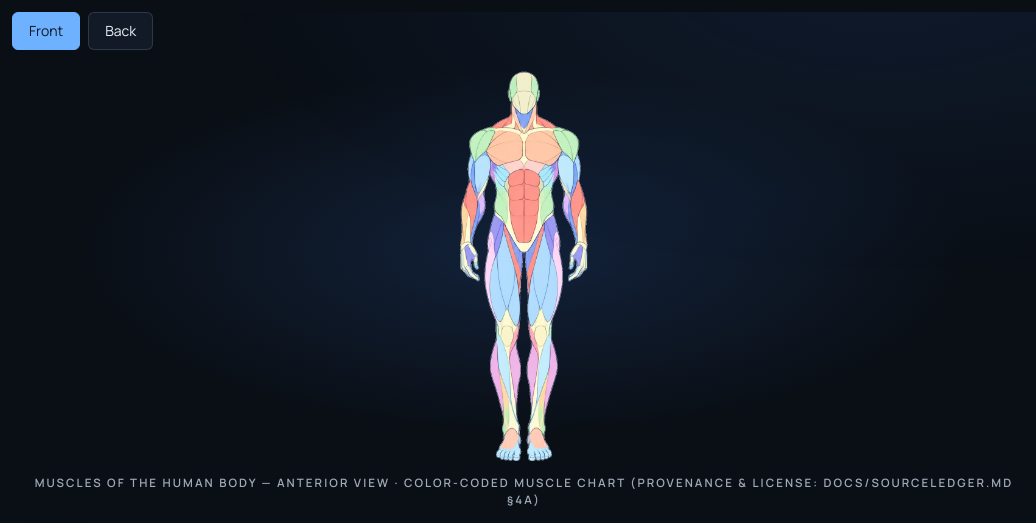
Test case: body map switcher - switching, AT, focus › switches front<->back and exposes state via aria-pressed
The width and height of the screenshot is (1036, 523).
Click the button "Back".
click(121, 31)  # box [88,12,153,50]
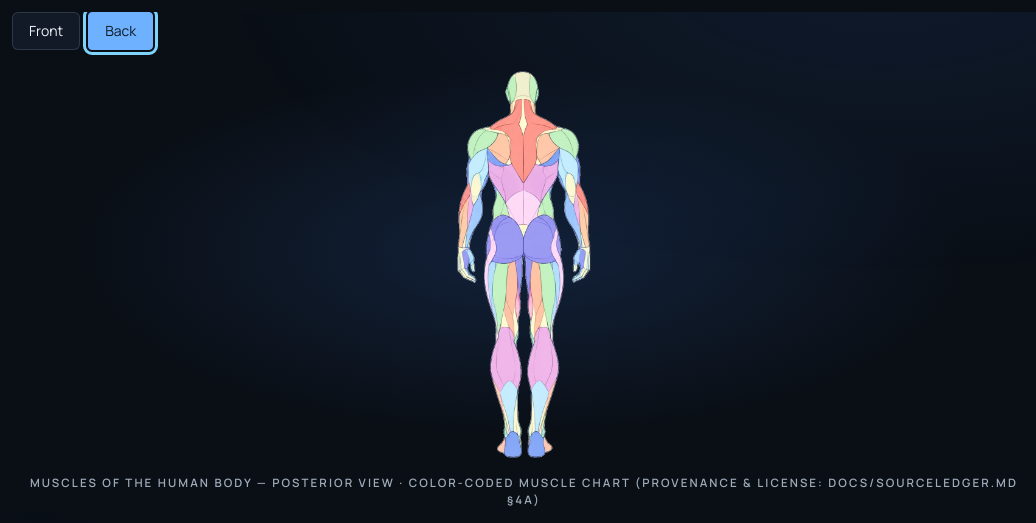
Check: the element "Front body map" is not shown
Check: the element named "Back body map" is shown, box [454,66,594,466]
Click the button "Front".
click(46, 31)  # box [12,12,80,50]
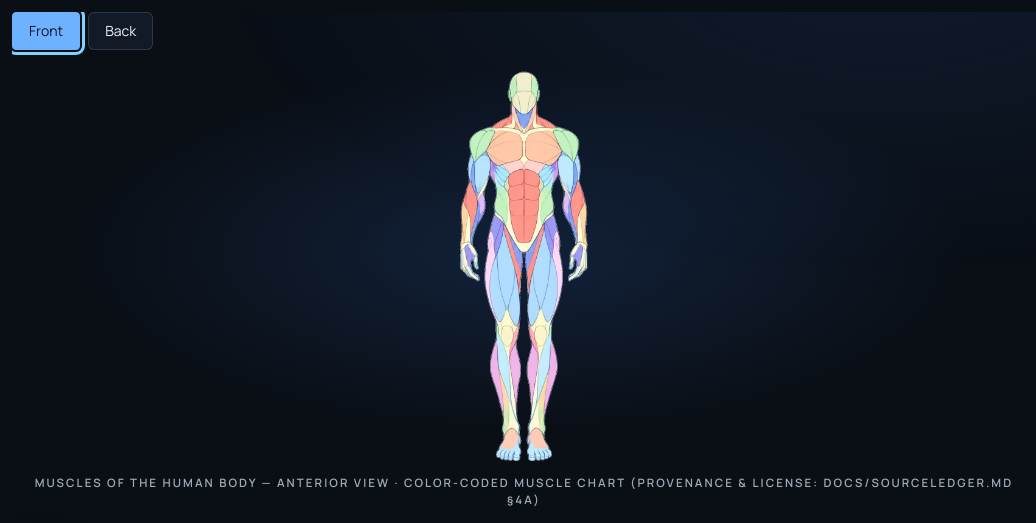
Check: the element named "Front body map" is shown, box [454,66,594,466]
